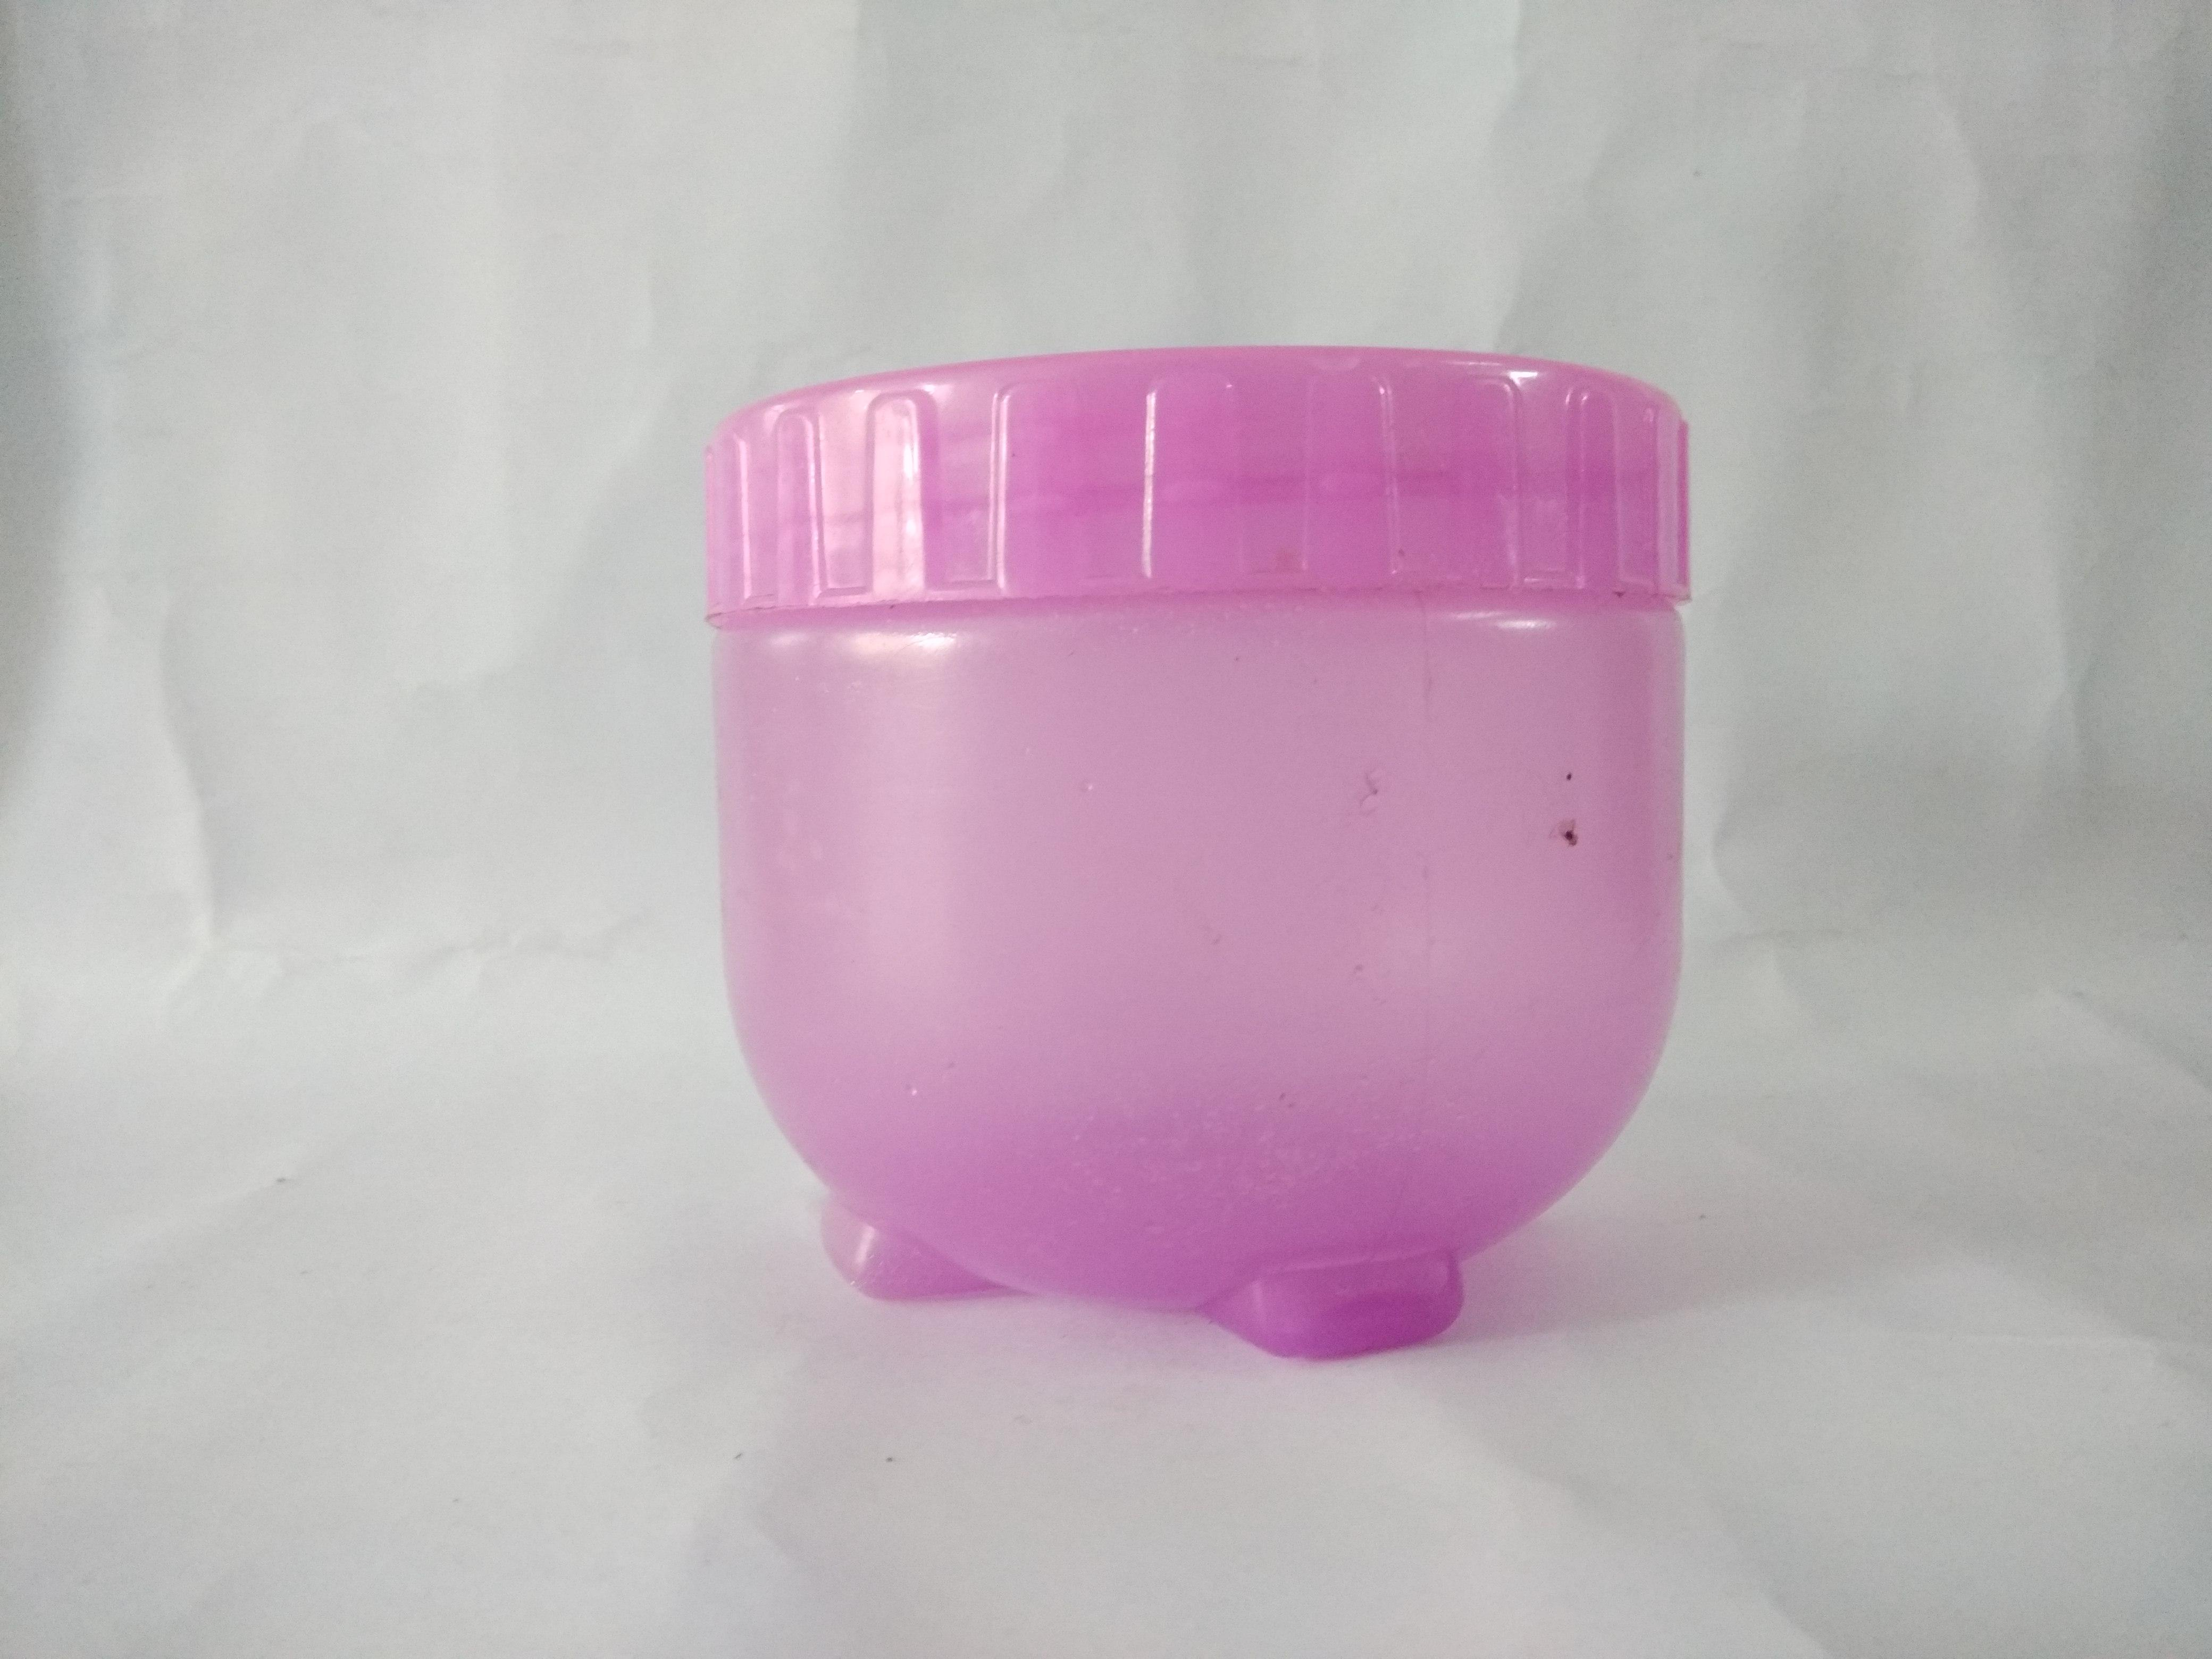PP: (437, 108, 1848, 1532)
